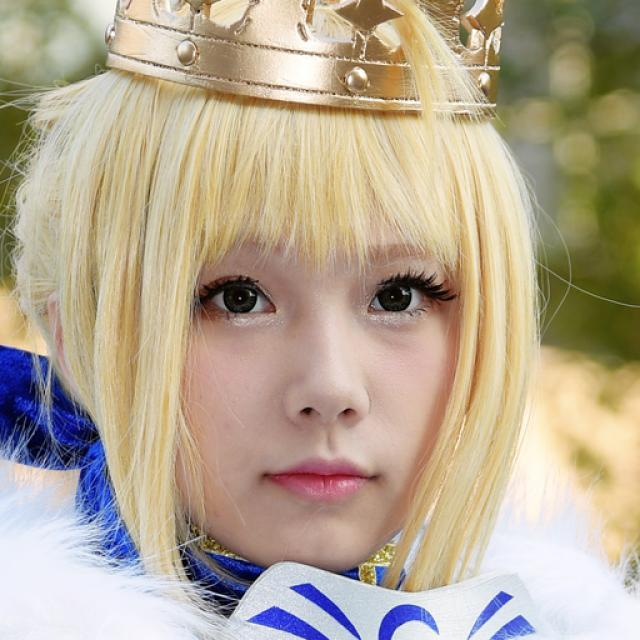happy: (175, 142, 468, 566)
